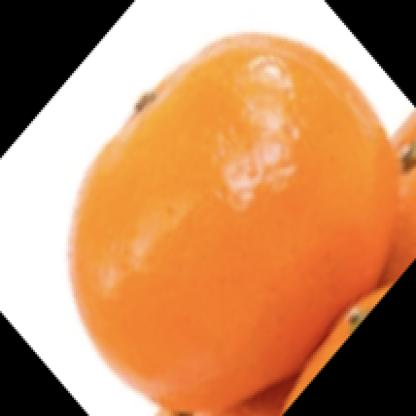fresh: (72, 33, 400, 416)
